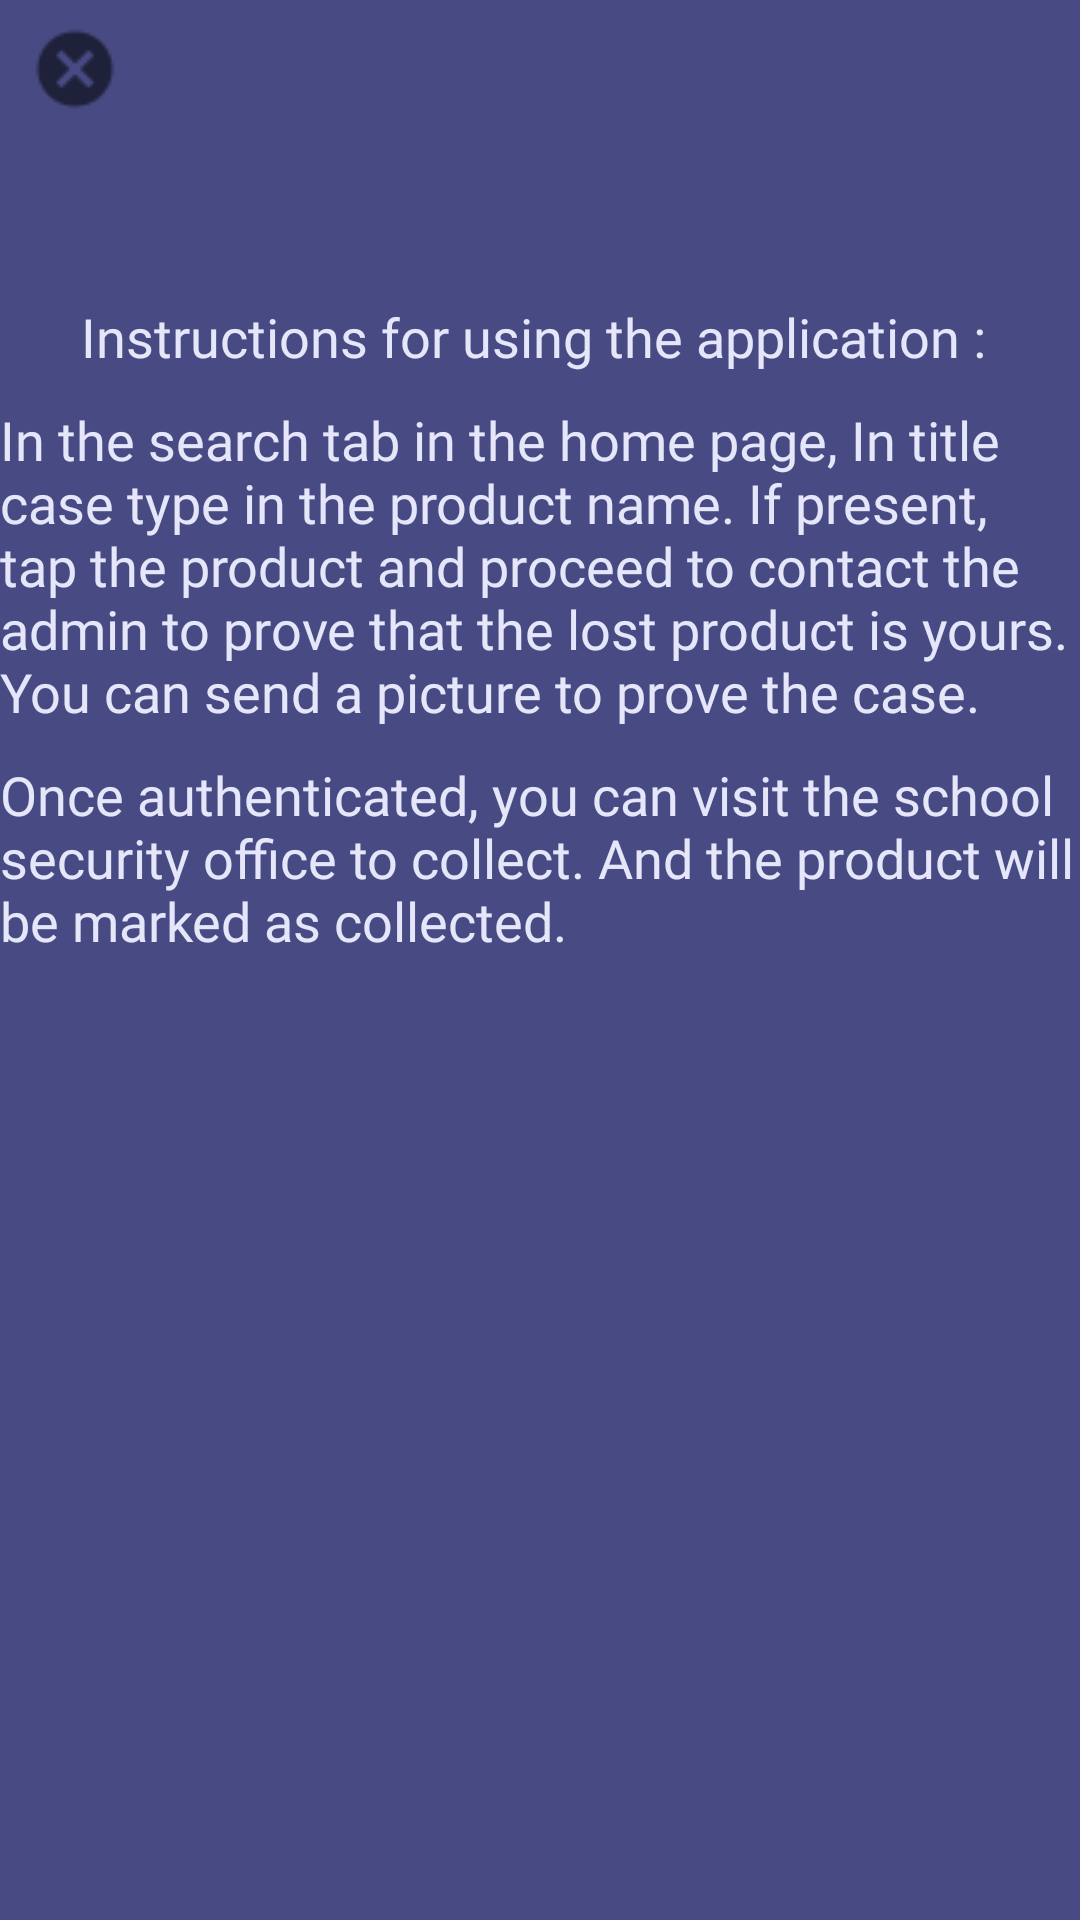

Named icons in this screenshot (1080x1920) and their bounding boxes, (x1, y1, x2, y2):
cancel: (37, 31, 113, 107)
